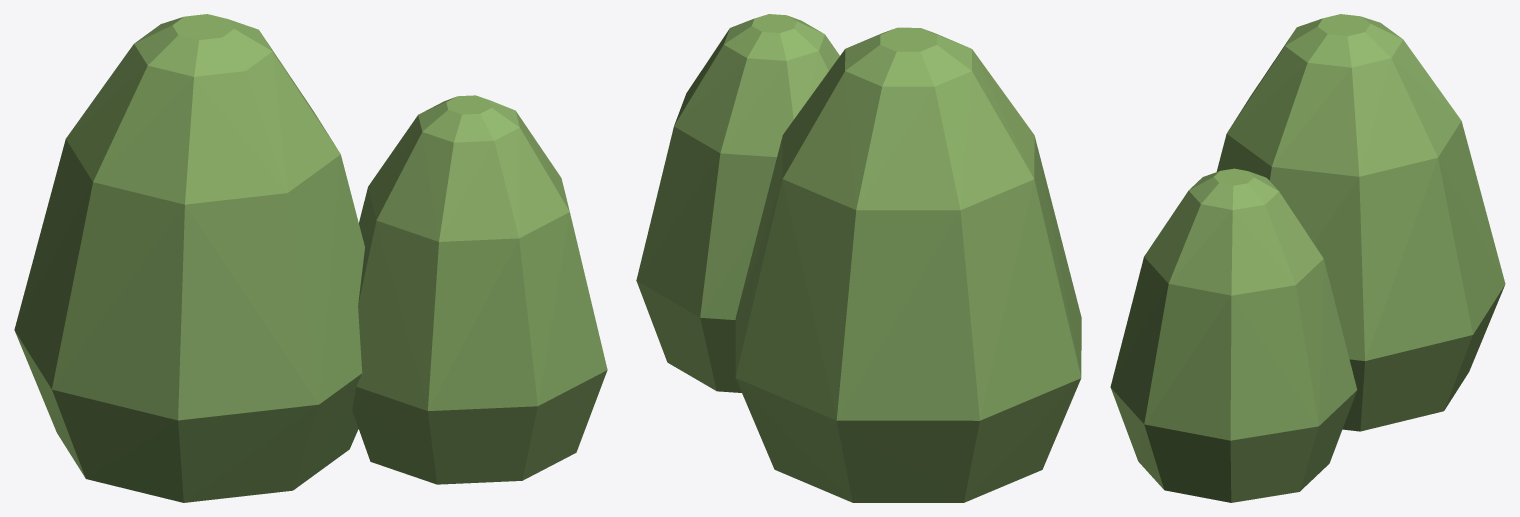
File: shrub-1.glb
3 renders of one model, left to right at view 1: azimuth 30°, elevation 25°; view 2: azimuth 150°, elevation 25°; view 3: azimuth 270°, elevation 25°, orthographic. The views are drawn at different scales.
Visible parts, largest first — view 1: shrub-1; view 2: shrub-1; view 3: shrub-1.
Part boxes in pixels (bbox=[...]): shrub-1: bbox=[14, 14, 607, 502]; shrub-1: bbox=[636, 14, 1081, 502]; shrub-1: bbox=[1110, 14, 1505, 502].
Bounding box in the file's own units: 0.8769 × 0.708 × 0.7169.
